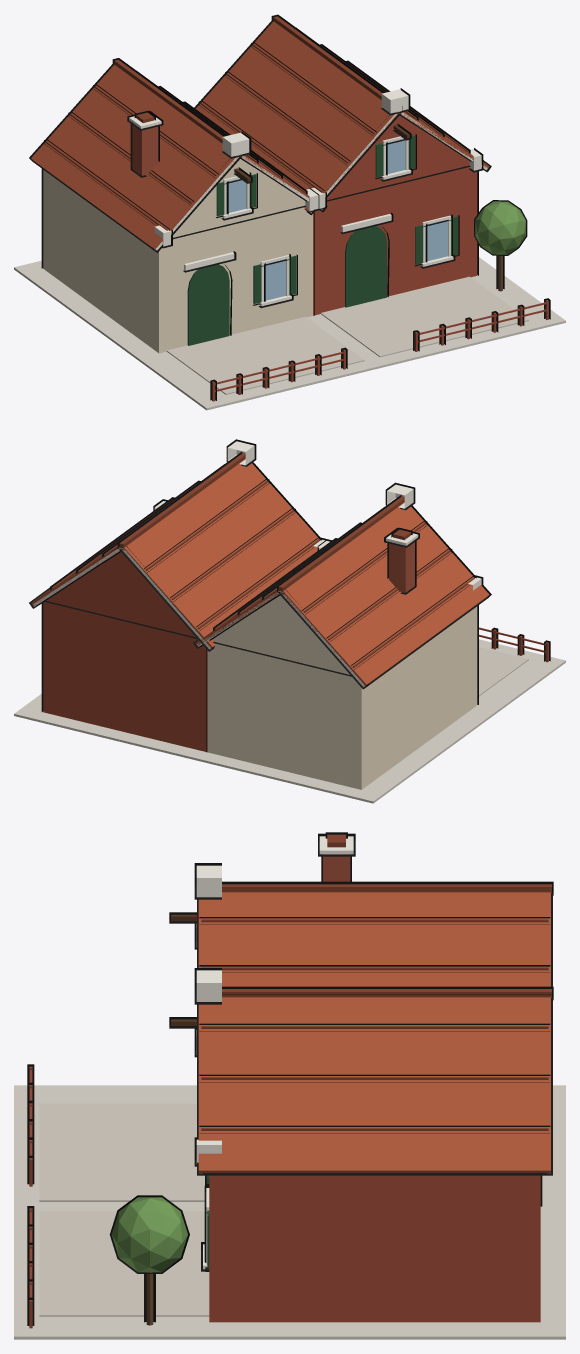
File: Sanayi_garaj_atolye.fbx
3 views of the same model, one above another, from view 1: azimuth 30°, elevation 25°; view 2: azimuth 150°, elevation 25°; view 3: azimuth 270°, elevation 25° (orthographic). The views are drawn at different scales.
Parts seen in each view (by area): view 1: Sanayi_garaj_atolye; view 2: Sanayi_garaj_atolye; view 3: Sanayi_garaj_atolye.
Boxes of the visible parts, <box> form: Sanayi_garaj_atolye: <box>14,14,565,410</box>; Sanayi_garaj_atolye: <box>14,439,565,803</box>; Sanayi_garaj_atolye: <box>14,832,565,1339</box>.
Bounding box in the file's own units: 14.25 × 7.61 × 13.
